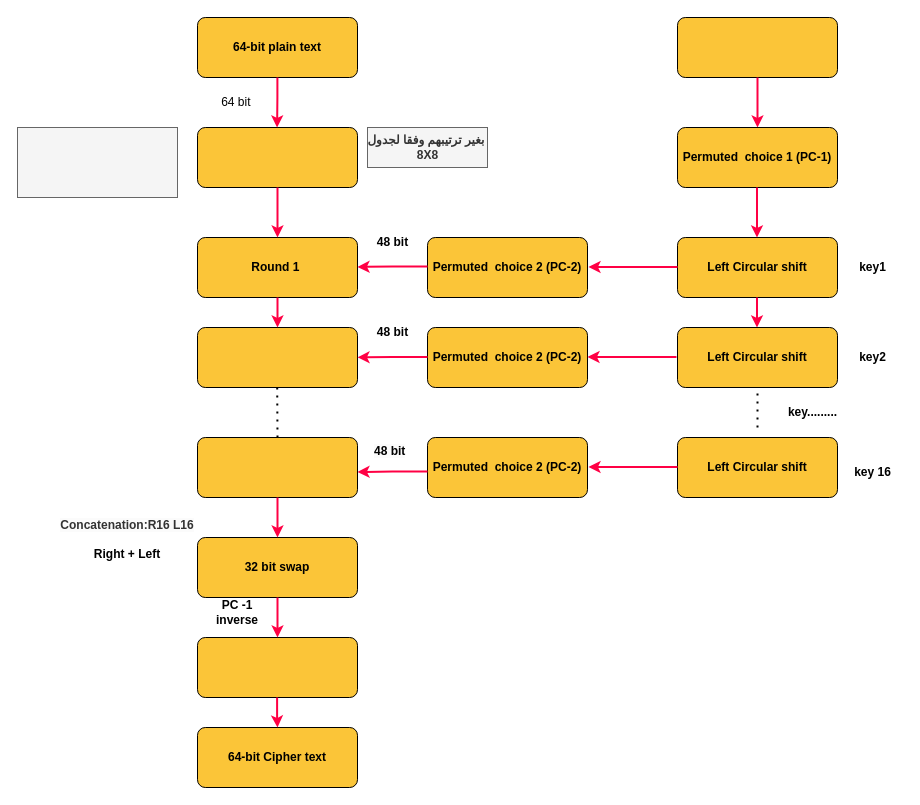
Image size: 920x805. Some labels were removed from this diagram. Each missing label, with the box of its shape:
64 bit Key(16 hexa decimal): (676, 16, 838, 78)
Initial Permutation(IP): (196, 126, 358, 188)
Inverse initial permutation: (196, 636, 358, 698)
L0:32 bit ,L1=32bit Ln=Rn-1 Rn=Ln-1 xor F(Rn-1,kn): (16, 126, 178, 198)
Round 16: (196, 436, 358, 498)
Round 2: (196, 326, 358, 388)
